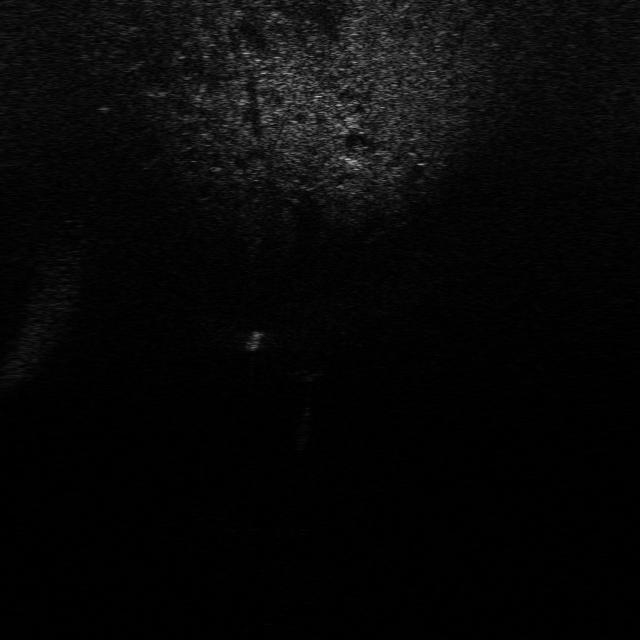cube: (283, 357, 328, 384)
cylinder: (237, 325, 266, 357)
